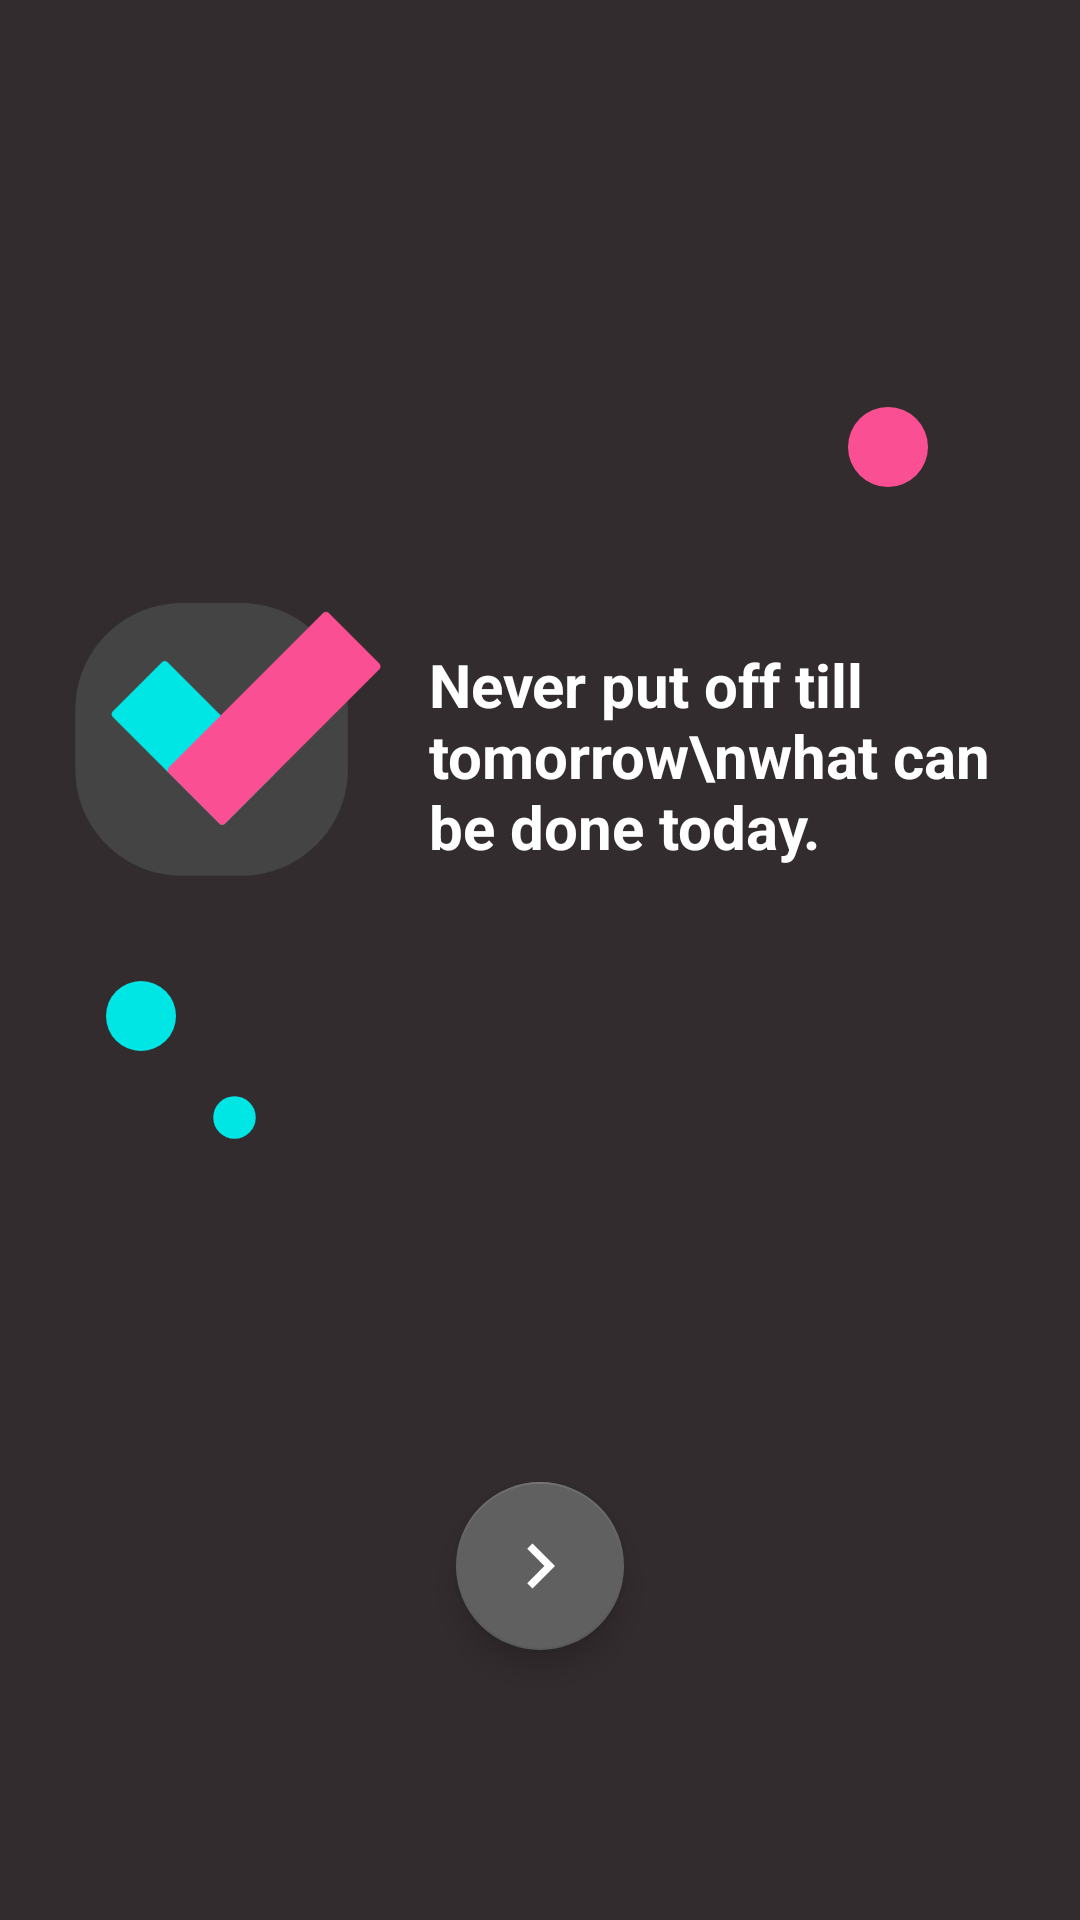

Named icons in this screenshot (1080 x 1920) and their bounding boxes, box=[x1, y1, x2, y2]:
checkedmdpi: box=[75, 603, 381, 876]
keyboard arrow right: box=[456, 1482, 624, 1650]
